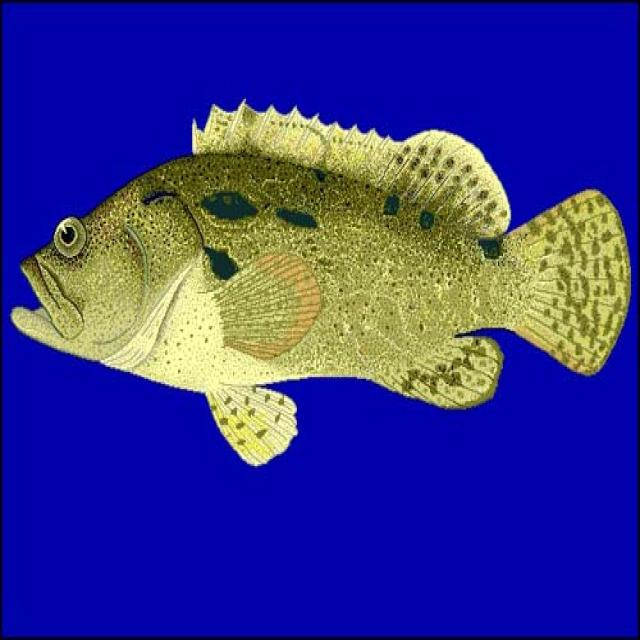ikan: (10, 95, 631, 468)
